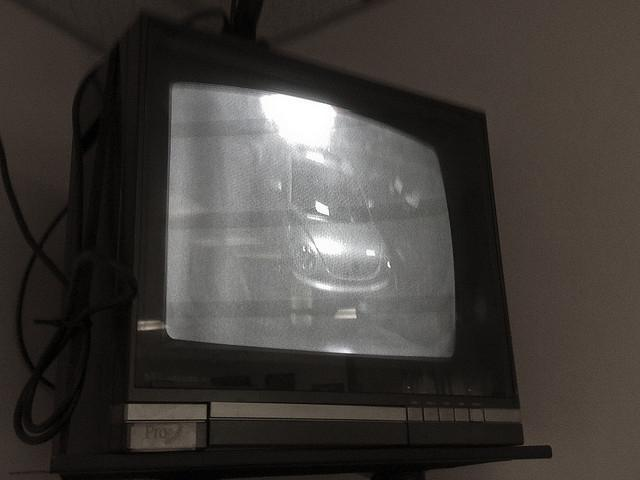car: (239, 132, 407, 316)
